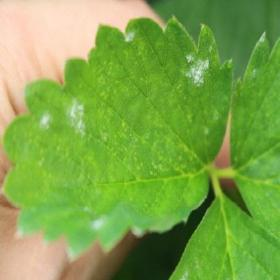Powdery Mildew Leaf: (0, 14, 234, 258)
